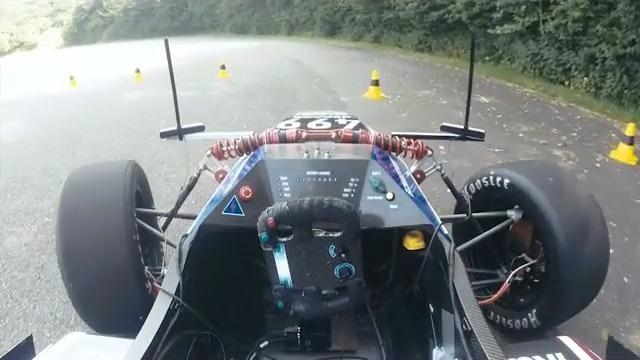yellow_cone: (603, 112, 640, 171), (358, 63, 394, 101), (205, 50, 238, 75), (124, 58, 150, 79), (58, 65, 81, 88)
